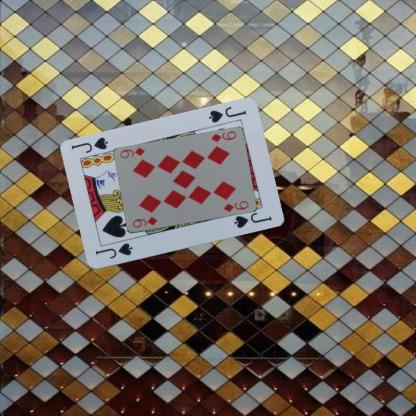9d: (130, 214, 158, 230), (208, 129, 237, 143)
Js: (92, 240, 134, 260), (206, 104, 247, 124)
